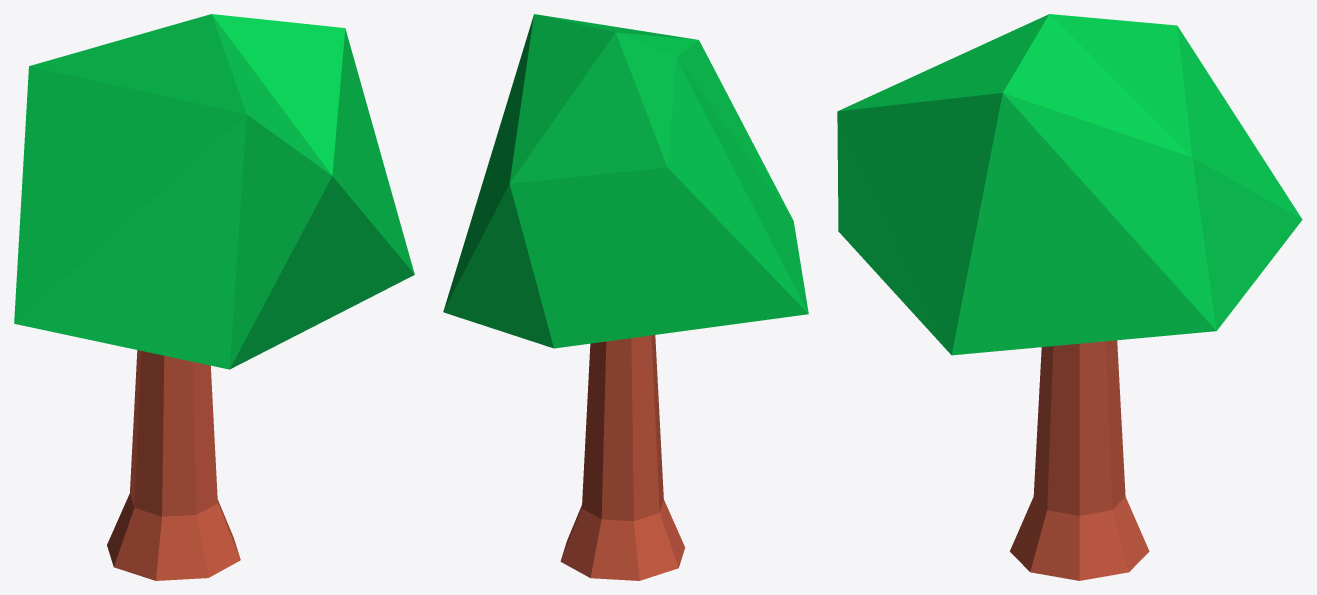
The model's file is tree8.fbx.
3 renders of one model, left to right at view 1: azimuth 30°, elevation 25°; view 2: azimuth 150°, elevation 25°; view 3: azimuth 270°, elevation 25°, orthographic. The views are drawn at different scales.
Parts seen in each view (by area): view 1: Cylinder.001, Cylinder; view 2: Cylinder.001, Cylinder; view 3: Cylinder.001, Cylinder.
Boxes of the visible parts, x1=… form: Cylinder.001: x1=14, y1=14, x2=414, y2=369; Cylinder: x1=107, y1=350, x2=240, y2=580; Cylinder.001: x1=443, y1=14, x2=808, y2=348; Cylinder: x1=560, y1=335, x2=685, y2=580; Cylinder.001: x1=837, y1=14, x2=1302, y2=355; Cylinder: x1=1010, y1=340, x2=1149, y2=580.
Bounding box in the file's own units: 151 × 220 × 169.
